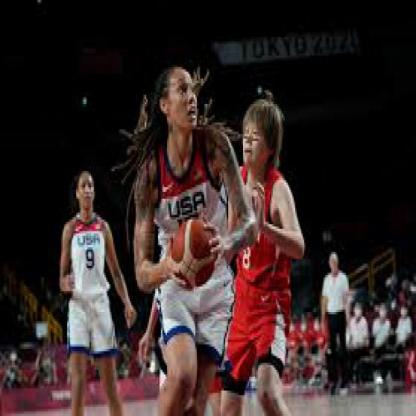basketball: (170, 220, 218, 291)
